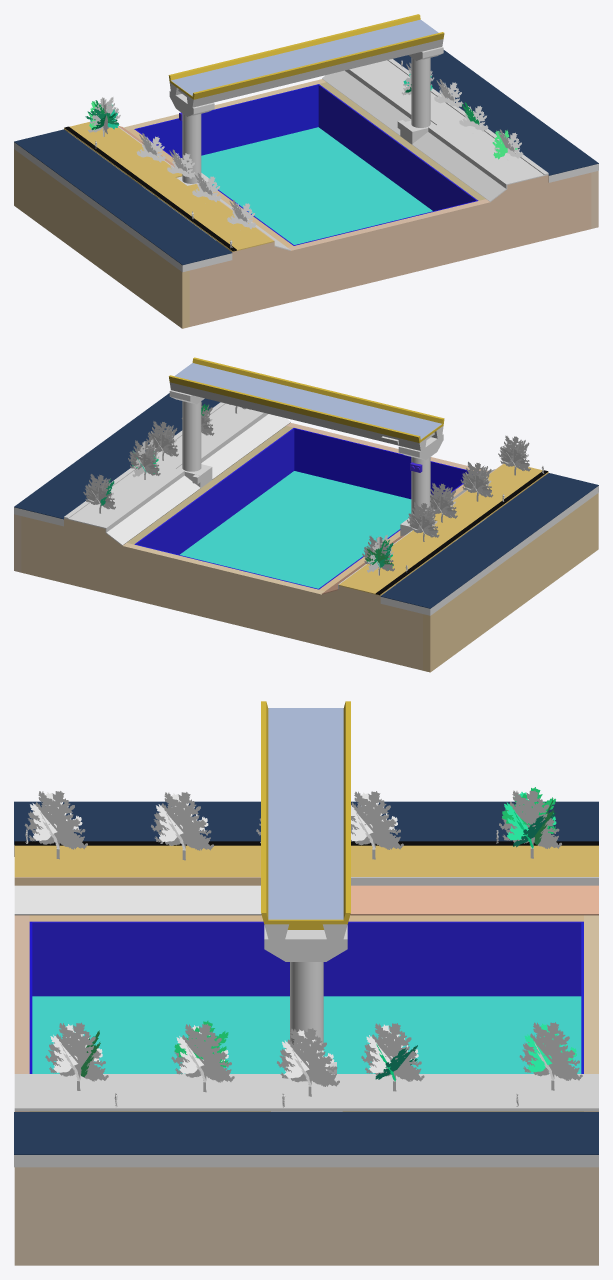
The model's file is PUENTES1.glb.
The picture shows the model from 3 angles, top to bottom: view 1: azimuth 30°, elevation 25°; view 2: azimuth 150°, elevation 25°; view 3: azimuth 270°, elevation 25°; orthographic projection. The views are drawn at different scales.
Visible parts, largest first — view 1: Import Symbol location <Not Shared> [168684], Import Symbol location <Not Shared> [168691], Import Symbol location <Not Shared> [168698], Import Symbol location <Not Shared> [168681]_[168626], Import Symbol location <Not Shared> [168705]_[168626], Import Symbol location <Not Shared> [168700], Import Symbol location <Not Shared> [168702], Import Symbol location <Not Shared> [168688], Import Symbol location <Not Shared> [168696], Import Symbol location <Not Shared> [168680], Import Symbol location <Not Shared> [168685]_[168650], Import Symbol location <Not Shared> [168685]_[168656] (+15 smaller); view 2: Import Symbol location <Not Shared> [168697], Import Symbol location <Not Shared> [168691], Import Symbol location <Not Shared> [168698], Import Symbol location <Not Shared> [168681]_[168626], Import Symbol location <Not Shared> [168702], Import Symbol location <Not Shared> [168706], Import Symbol location <Not Shared> [168705]_[168626], Import Symbol location <Not Shared> [168688], Import Symbol location <Not Shared> [168680], Import Symbol location <Not Shared> [168696], Import Symbol location <Not Shared> [168685]_[168650], Import Symbol location <Not Shared> [168685]_[168647] (+19 smaller); view 3: Import Symbol location <Not Shared> [168707], Import Symbol location <Not Shared> [168704], Import Symbol location <Not Shared> [168691], Import Symbol location <Not Shared> [168705]_[168626], Import Symbol location <Not Shared> [168696], Import Symbol location <Not Shared> [168680], Import Symbol location <Not Shared> [168688], Import Symbol location <Not Shared> [168681]_[168626], Import Symbol location <Not Shared> [168687], Import Symbol location <Not Shared> [168690], Import Symbol location <Not Shared> [168705], Import Symbol location <Not Shared> [168685]_[168650] (+18 smaller).
Boxes of the visible parts, x1=… form: Import Symbol location <Not Shared> [168684]: x1=189, y1=172, x2=591, y2=326; Import Symbol location <Not Shared> [168691]: x1=201, y1=127, x2=432, y2=244; Import Symbol location <Not Shared> [168698]: x1=14, y1=149, x2=189, y2=328; Import Symbol location <Not Shared> [168681]_[168626]: x1=14, y1=129, x2=232, y2=265; Import Symbol location <Not Shared> [168705]_[168626]: x1=393, y1=50, x2=598, y2=175; Import Symbol location <Not Shared> [168700]: x1=134, y1=84, x2=319, y2=157; Import Symbol location <Not Shared> [168702]: x1=318, y1=84, x2=477, y2=210; Import Symbol location <Not Shared> [168688]: x1=64, y1=122, x2=273, y2=251; Import Symbol location <Not Shared> [168696]: x1=350, y1=60, x2=548, y2=184; Import Symbol location <Not Shared> [168680]: x1=171, y1=19, x2=438, y2=95; Import Symbol location <Not Shared> [168685]_[168650]: x1=168, y1=14, x2=444, y2=99; Import Symbol location <Not Shared> [168685]_[168656]: x1=186, y1=39, x2=443, y2=107; Import Symbol location <Not Shared> [168697]: x1=21, y1=516, x2=422, y2=670; Import Symbol location <Not Shared> [168691]: x1=180, y1=471, x2=411, y2=588; Import Symbol location <Not Shared> [168698]: x1=423, y1=493, x2=598, y2=672; Import Symbol location <Not Shared> [168681]_[168626]: x1=380, y1=473, x2=598, y2=608; Import Symbol location <Not Shared> [168702]: x1=135, y1=428, x2=294, y2=554; Import Symbol location <Not Shared> [168706]: x1=293, y1=428, x2=469, y2=499; Import Symbol location <Not Shared> [168705]_[168626]: x1=14, y1=393, x2=220, y2=519; Import Symbol location <Not Shared> [168688]: x1=339, y1=464, x2=548, y2=595; Import Symbol location <Not Shared> [168680]: x1=174, y1=363, x2=441, y2=439; Import Symbol location <Not Shared> [168696]: x1=64, y1=403, x2=262, y2=528; Import Symbol location <Not Shared> [168685]_[168650]: x1=169, y1=357, x2=444, y2=442; Import Symbol location <Not Shared> [168685]_[168647]: x1=169, y1=382, x2=426, y2=450; Import Symbol location <Not Shared> [168707]: x1=14, y1=1167, x2=598, y2=1265; Import Symbol location <Not Shared> [168704]: x1=32, y1=921, x2=581, y2=996; Import Symbol location <Not Shared> [168691]: x1=32, y1=996, x2=581, y2=1073; Import Symbol location <Not Shared> [168705]_[168626]: x1=14, y1=1112, x2=598, y2=1154; Import Symbol location <Not Shared> [168696]: x1=14, y1=1074, x2=598, y2=1111; Import Symbol location <Not Shared> [168680]: x1=268, y1=708, x2=343, y2=919; Import Symbol location <Not Shared> [168688]: x1=14, y1=845, x2=598, y2=876; Import Symbol location <Not Shared> [168681]_[168626]: x1=14, y1=801, x2=598, y2=844; Import Symbol location <Not Shared> [168687]: x1=350, y1=885, x2=598, y2=915; Import Symbol location <Not Shared> [168690]: x1=14, y1=885, x2=261, y2=915; Import Symbol location <Not Shared> [168705]: x1=14, y1=1155, x2=598, y2=1167; Import Symbol location <Not Shared> [168685]_[168650]: x1=261, y1=701, x2=350, y2=929.
Bounding box in the file's own units: 328 × 122 × 230.
